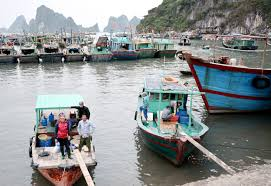tau_dansu: (140, 76, 212, 170), (24, 97, 98, 180), (189, 49, 269, 119), (221, 31, 262, 52), (132, 30, 154, 64), (154, 29, 176, 61)
